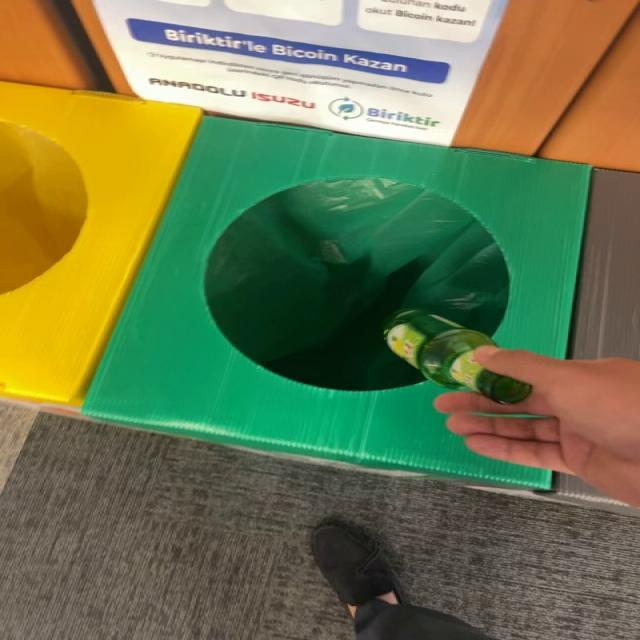glass: (384, 310, 532, 404)
